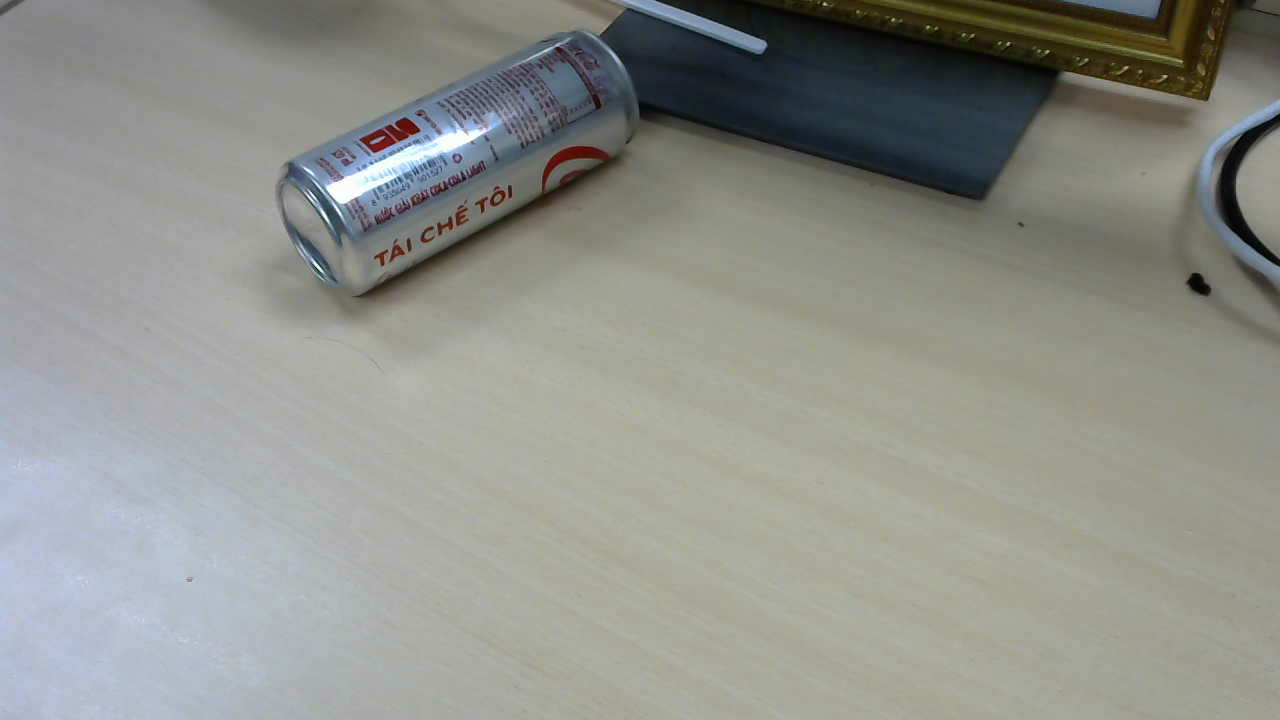Coca_Cola: (278, 32, 647, 304)
